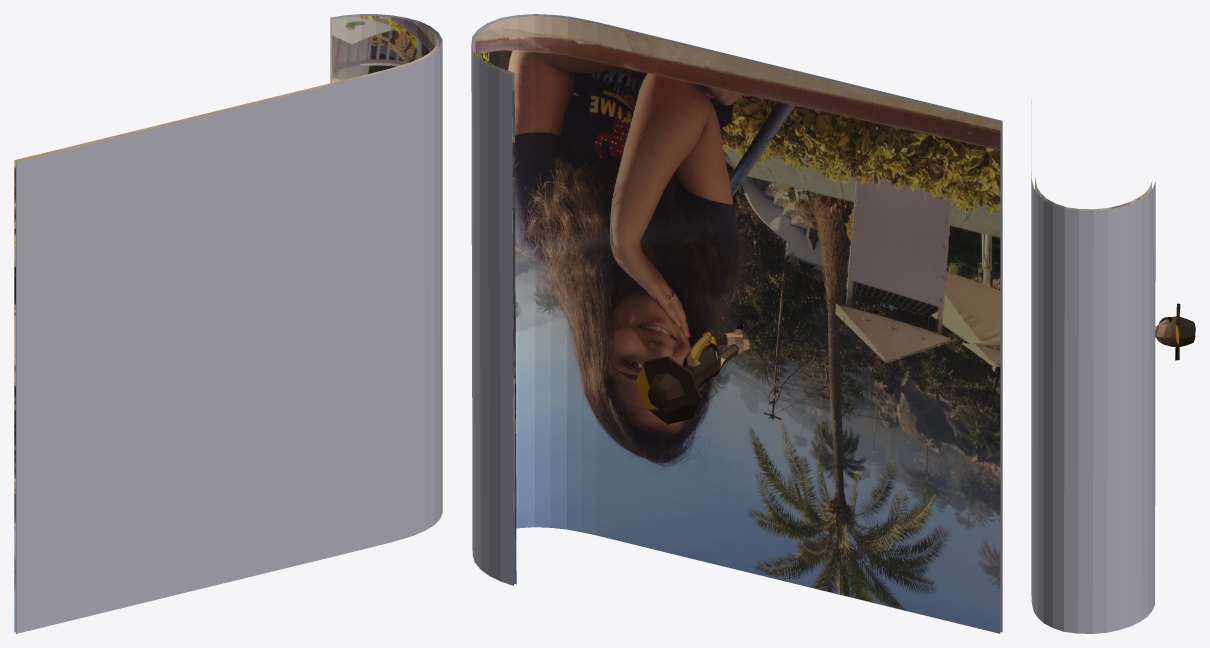
The model's file is start_file2_000063.obj.
The picture shows the model from 3 angles, left to right: view 1: azimuth 30°, elevation 25°; view 2: azimuth 150°, elevation 25°; view 3: azimuth 270°, elevation 25°; orthographic projection. The views are drawn at different scales.
Visible parts, largest first — view 1: Cube_Cube.001; view 2: Cube_Cube.001, Character_Cube; view 3: Cube_Cube.001, Character_Cube.
Part boxes in pixels (bbox=[...]): Cube_Cube.001: bbox=[14, 14, 442, 633]; Cube_Cube.001: bbox=[471, 14, 1002, 633]; Character_Cube: bbox=[635, 323, 749, 424]; Cube_Cube.001: bbox=[1031, 100, 1155, 633]; Character_Cube: bbox=[1155, 303, 1195, 360].
Size of the model in its own units: 1.52 by 1.52 by 0.5353.
Materials: 2 (2 with a texture image).
